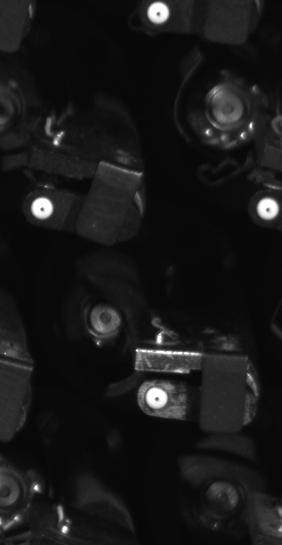fiber: (24, 194, 60, 225), (142, 383, 174, 415), (139, 1, 178, 27), (254, 193, 282, 228)
